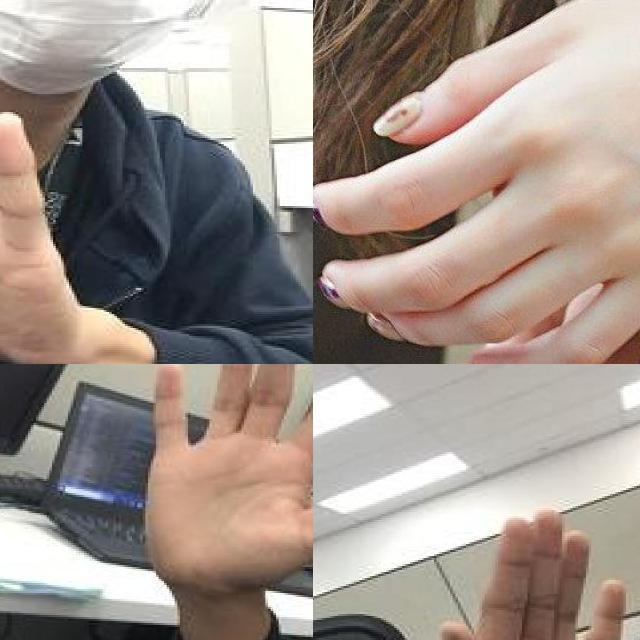no-gloves: (313, 0, 640, 364), (0, 32, 167, 364), (137, 364, 313, 589), (431, 502, 631, 640)
